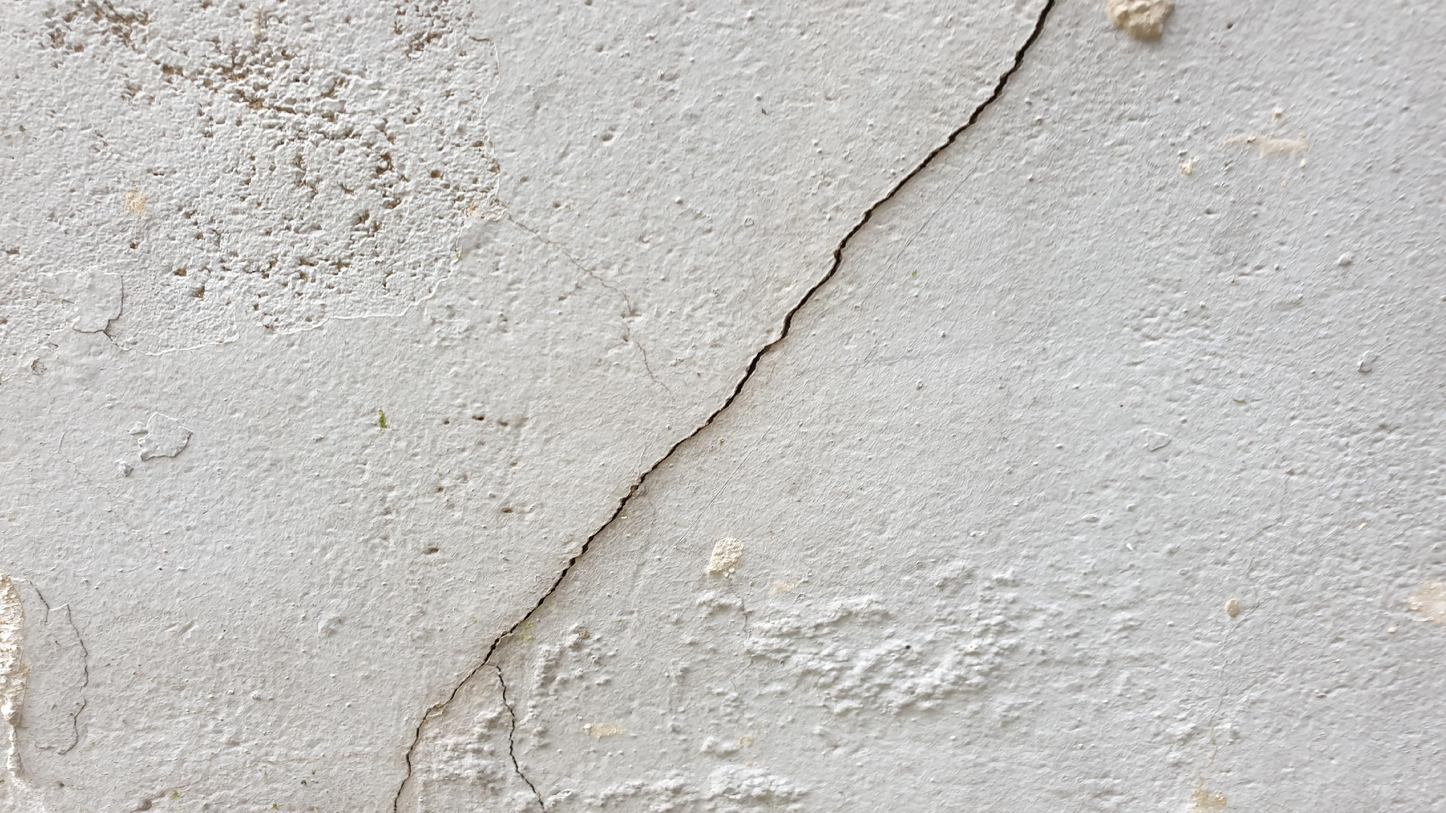crack: (391, 1, 1057, 812)
